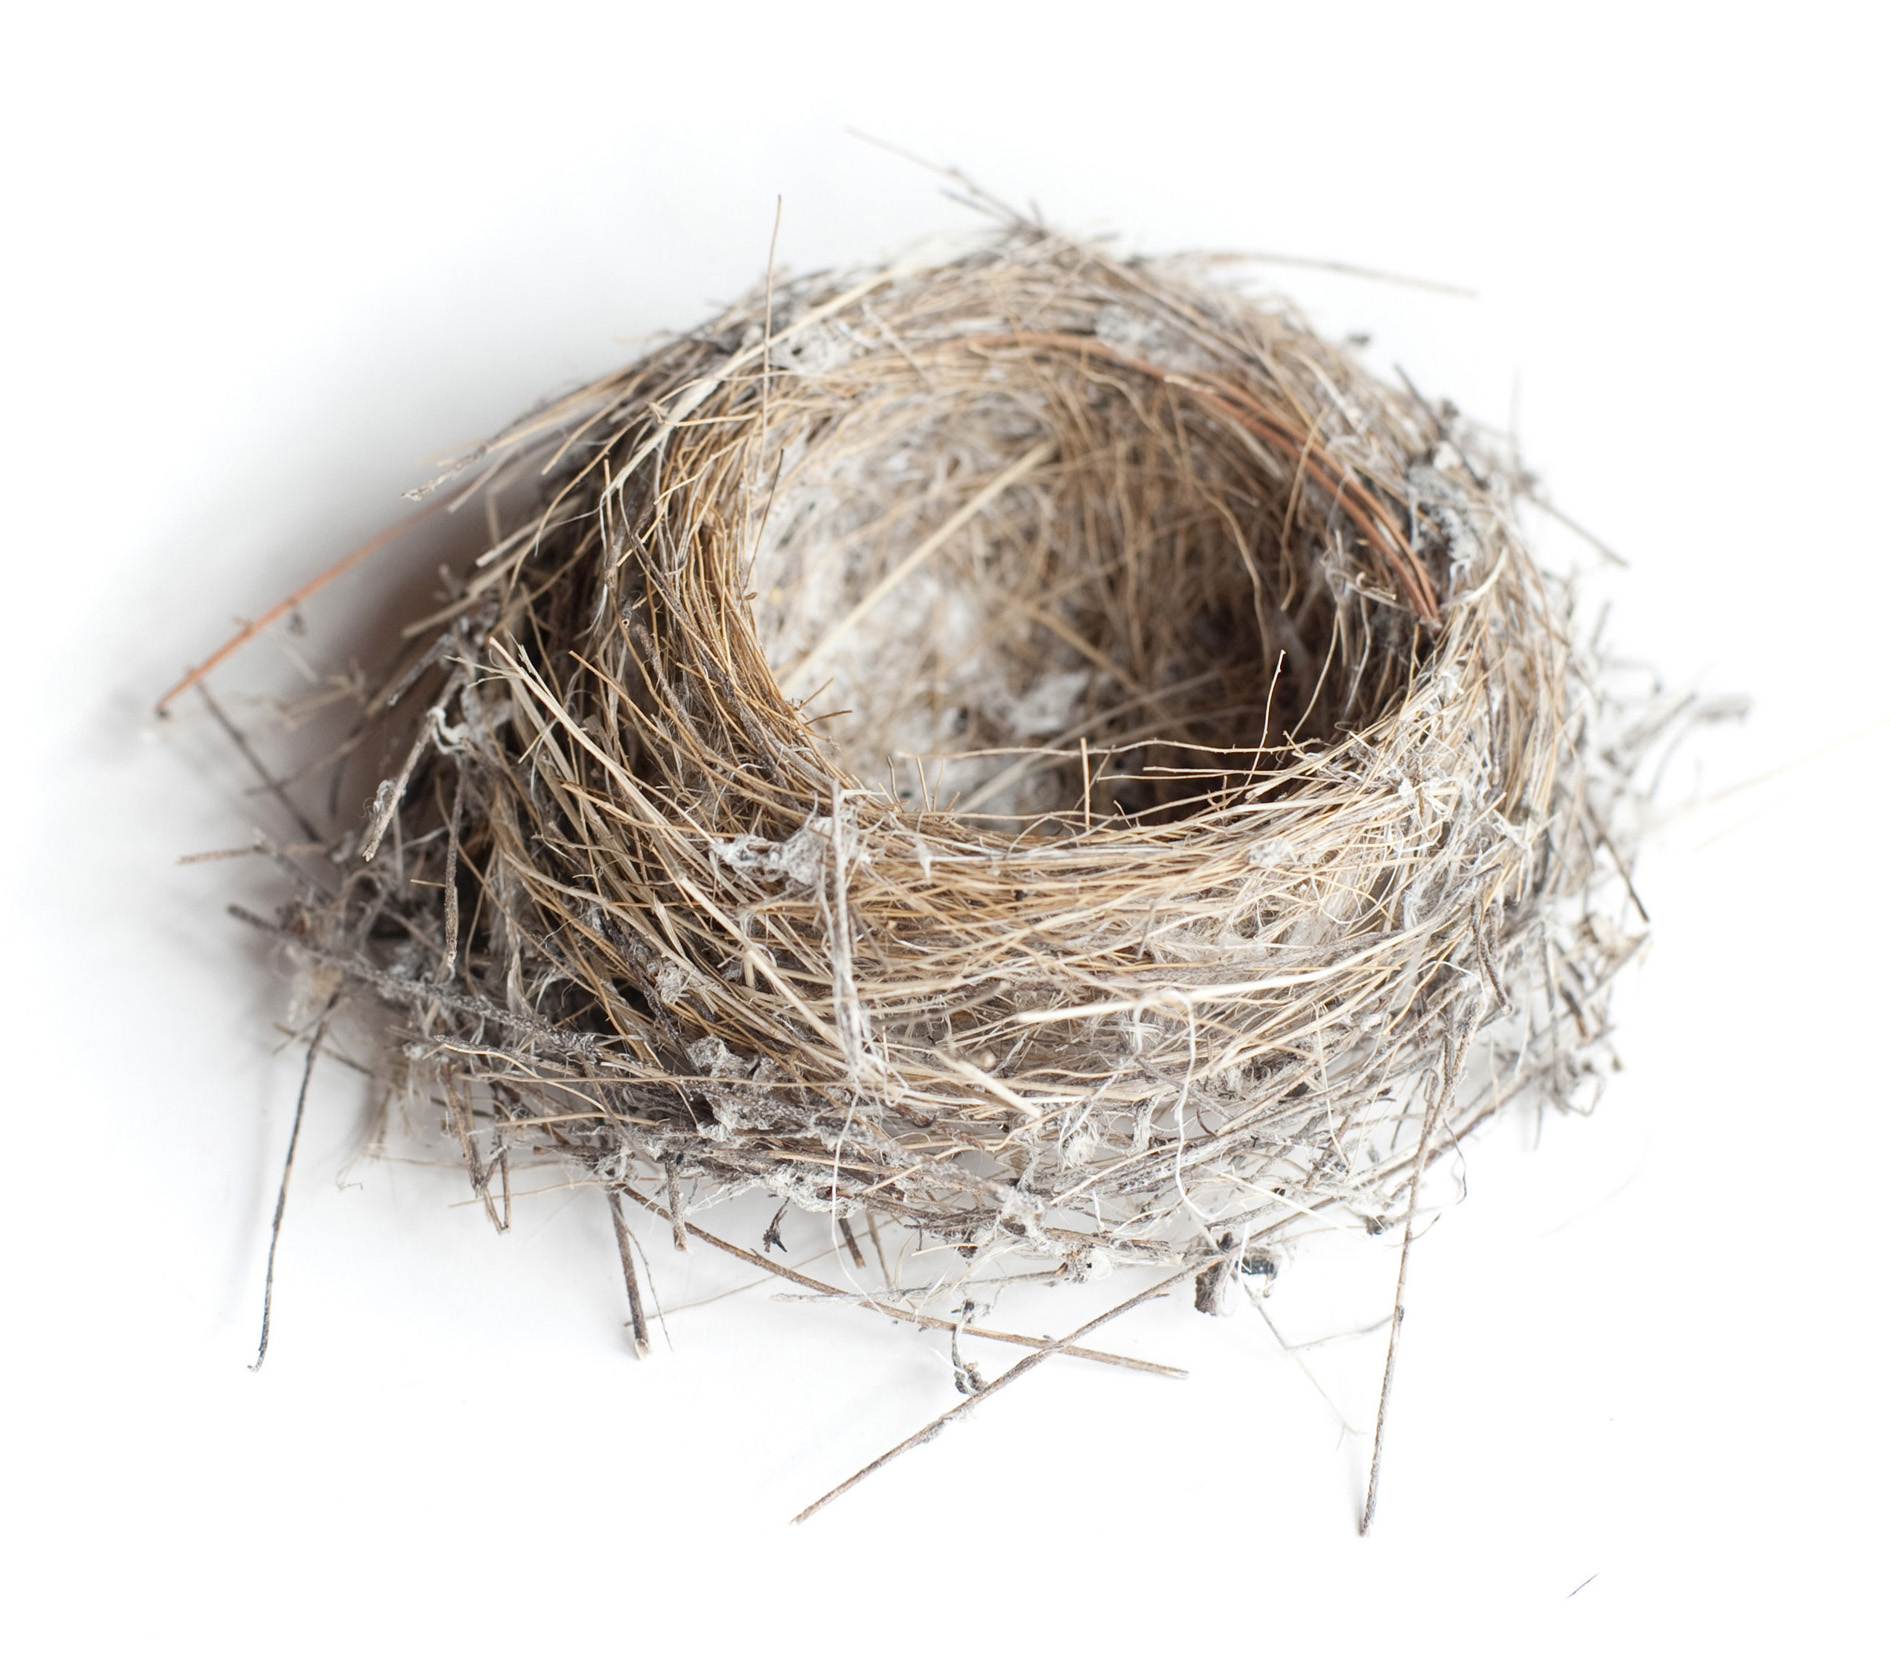bird-nest: (333, 236, 1671, 1252)
